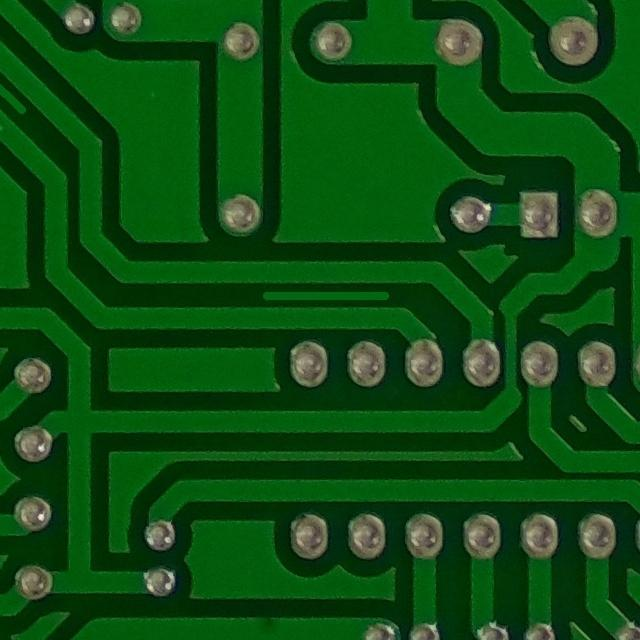spurious_copper: (247, 269, 407, 321)
